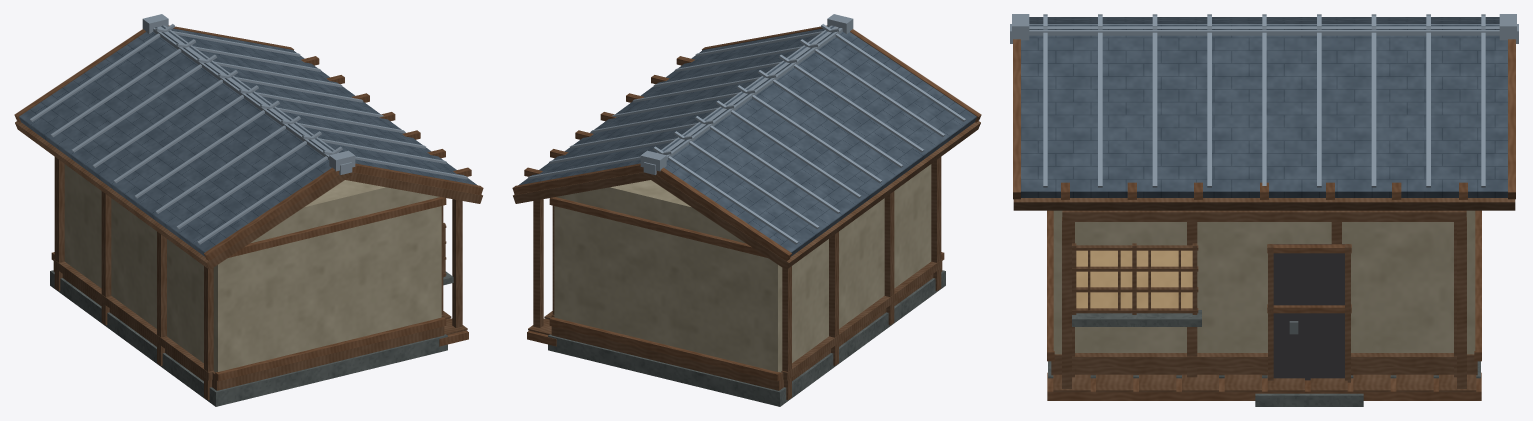
Rendered from kominka_00.glb.
3 renders of one model, left to right at view 1: azimuth 30°, elevation 25°; view 2: azimuth 150°, elevation 25°; view 3: azimuth 270°, elevation 25°, orthographic. The views are drawn at different scales.
Parts seen in each view (by area): view 1: TsukimoriSharedHome; view 2: TsukimoriSharedHome; view 3: TsukimoriSharedHome.
Part boxes in pixels (<box>): TsukimoriSharedHome: <box>14,14,483,406</box>; TsukimoriSharedHome: <box>512,14,981,406</box>; TsukimoriSharedHome: <box>1010,14,1518,406</box>.
Size of the model in its own units: 6.07 by 4.73 by 7.24.
Materials: 9 (6 with a texture image).
